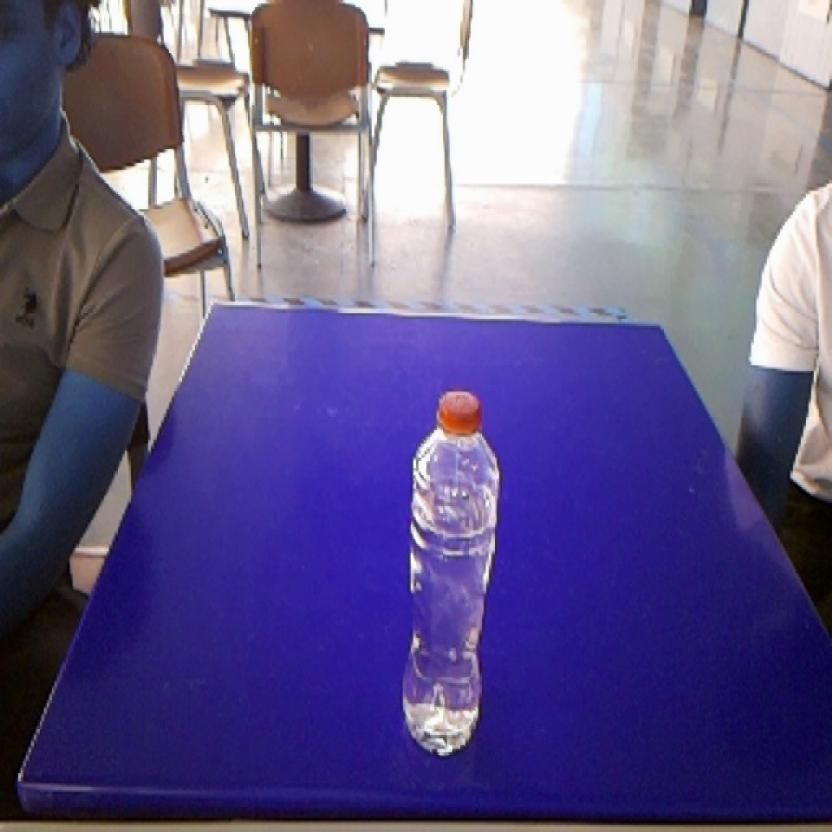no_label: (393, 382, 507, 766)
